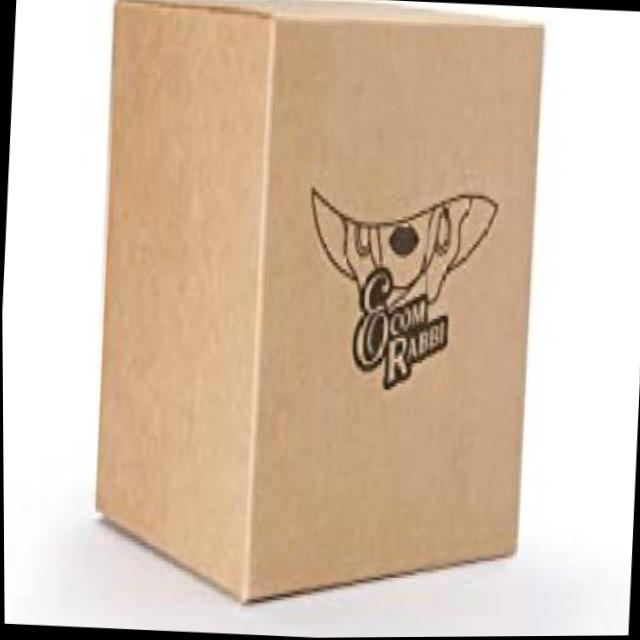box: (77, 0, 559, 627)
